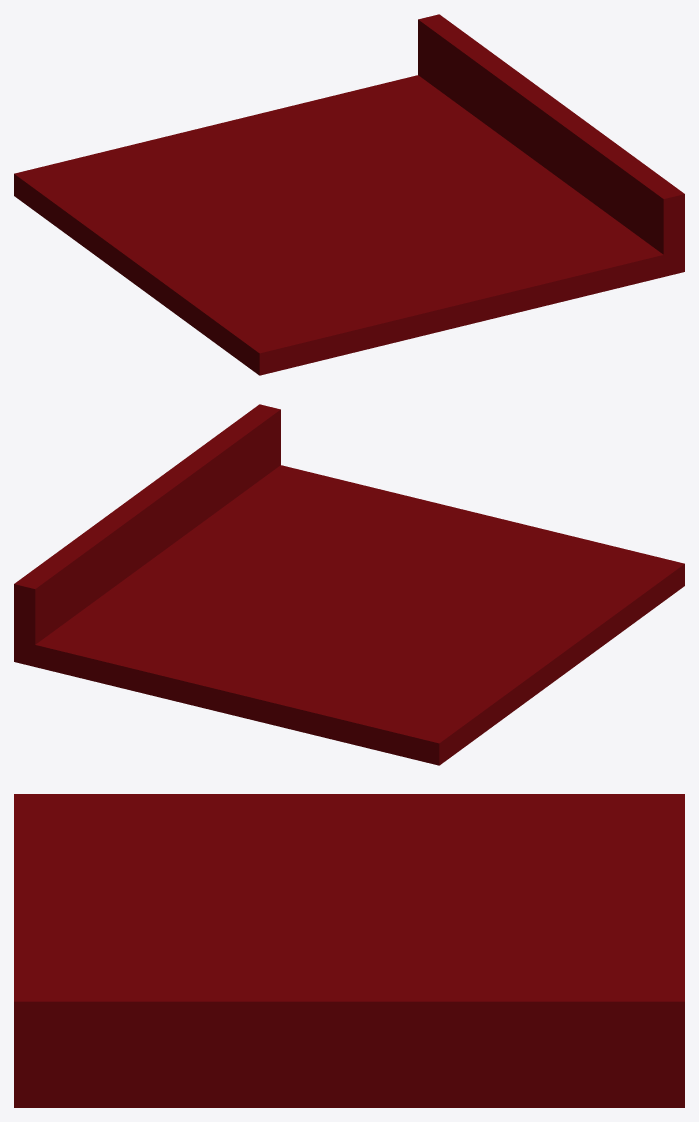
Rendered from RedRoof_1Edge.glb.
3 renders of one model, top to bottom at view 1: azimuth 30°, elevation 25°; view 2: azimuth 150°, elevation 25°; view 3: azimuth 270°, elevation 25°, orthographic. The views are drawn at different scales.
Parts seen in each view (by area): view 1: roof_flat_1Edge_red; view 2: roof_flat_1Edge_red; view 3: roof_flat_1Edge_red.
Part boxes in pixels (x1,y1,x2,y2): roof_flat_1Edge_red: (14, 14, 684, 375); roof_flat_1Edge_red: (14, 404, 684, 765); roof_flat_1Edge_red: (14, 794, 684, 1107).
Size of what is drawn, in the model's own units: 4 by 0.7 by 4.
Materials: 1 (1 with a texture image).
